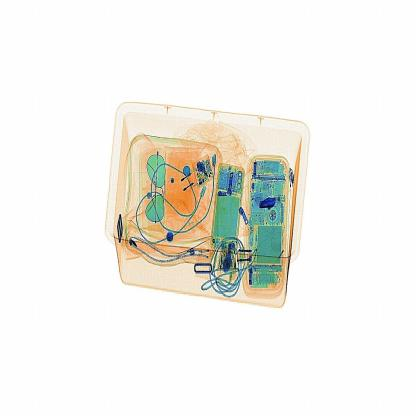knife: (260, 194, 281, 214)
